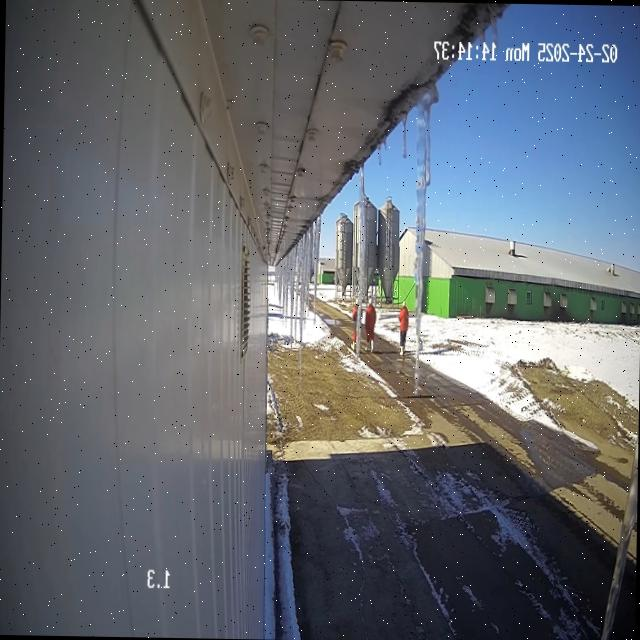Red uniform: (364, 300, 376, 351), (398, 302, 408, 355), (351, 303, 358, 322), (352, 325, 356, 342)
